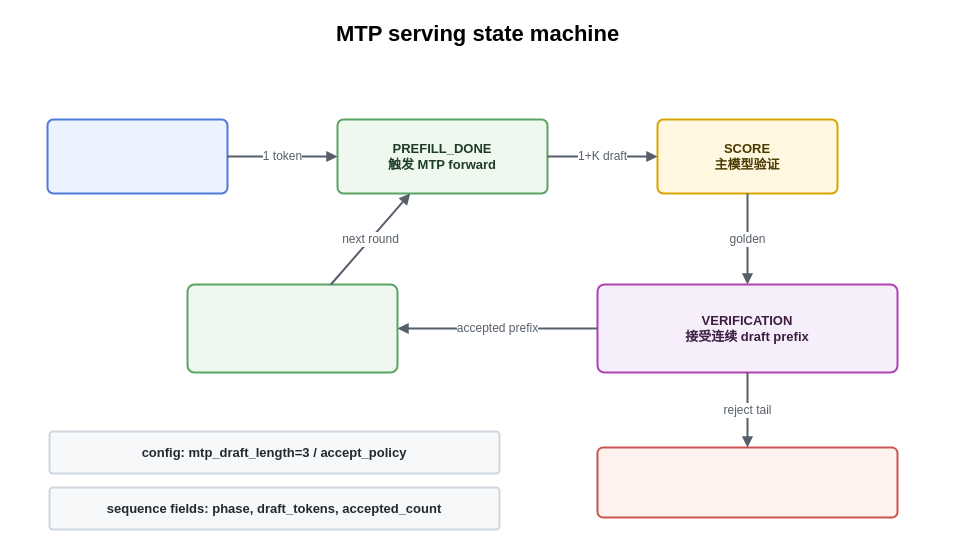
The diagram is 954 pixels wide and 547 high, and some of its shapes have lost their labels. Each missing label, with the centre of its shape:
"KV Commit 接受则推进 cache_len" goes at point (292, 328).
"KV Rollback 未接受 token 从逻辑长度切掉" goes at point (747, 482).
"PREFILL 主模型跑 prompt" goes at point (137, 156).
